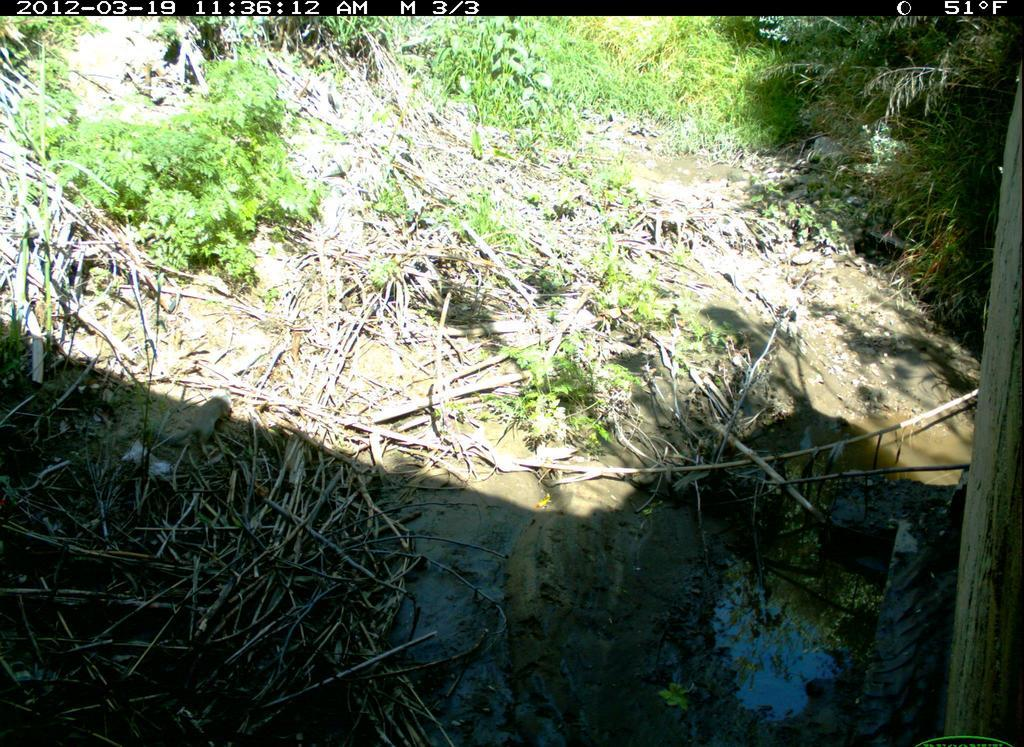squirrel: (155, 381, 251, 468)
